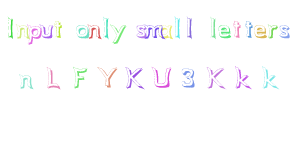3: (177, 64, 201, 93)
F: (66, 64, 94, 93)
I: (3, 13, 22, 44)
K: (201, 64, 230, 93), (122, 64, 146, 93)
L: (40, 63, 66, 93)
U: (146, 65, 177, 91)
Y: (94, 64, 122, 93)
a: (158, 19, 174, 42)
e: (217, 22, 232, 42), (254, 23, 267, 40)
k: (258, 64, 291, 96), (230, 63, 257, 93)
l: (184, 14, 197, 43), (207, 15, 219, 44), (100, 14, 112, 42), (173, 15, 182, 41)
m: (142, 17, 165, 45)
n: (14, 66, 40, 96), (85, 19, 102, 43), (14, 21, 32, 41)
o: (73, 19, 91, 42)
p: (25, 19, 44, 47)
r: (267, 16, 279, 42)
s: (133, 20, 149, 42), (277, 23, 293, 40)
t: (53, 15, 67, 42), (242, 15, 254, 40), (231, 16, 242, 40)
u: (37, 18, 55, 41)
y: (110, 20, 127, 48)
